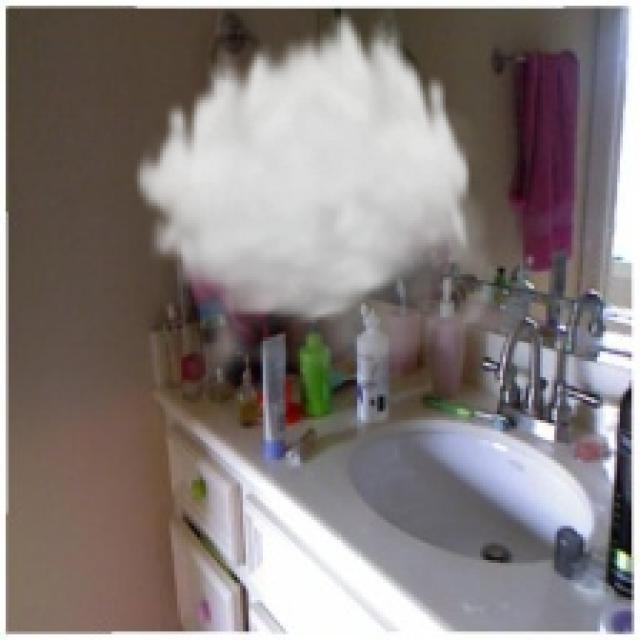Smoke: (131, 3, 546, 400)
